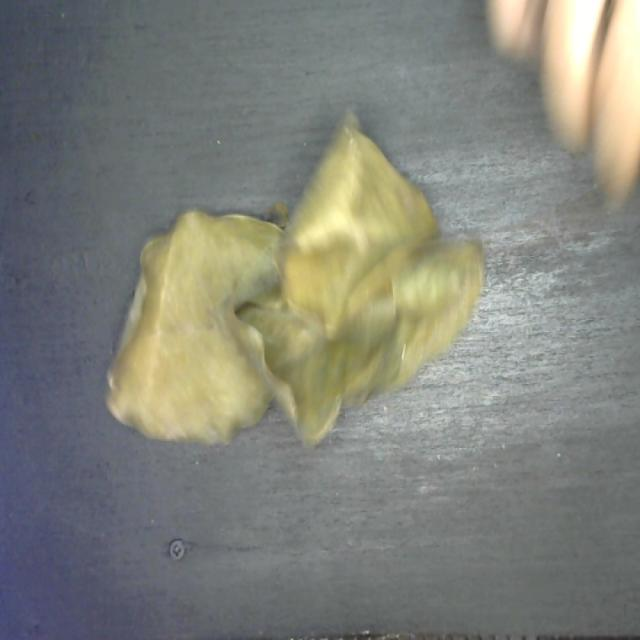biodegradable: (96, 103, 491, 452)
